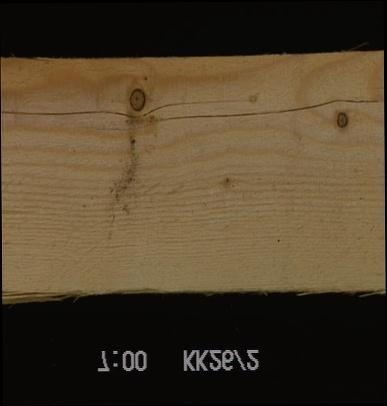dry_knot: (127, 87, 146, 113), (333, 110, 348, 130)
small_knot: (215, 169, 239, 192)
split: (0, 93, 249, 123), (160, 95, 380, 122)
